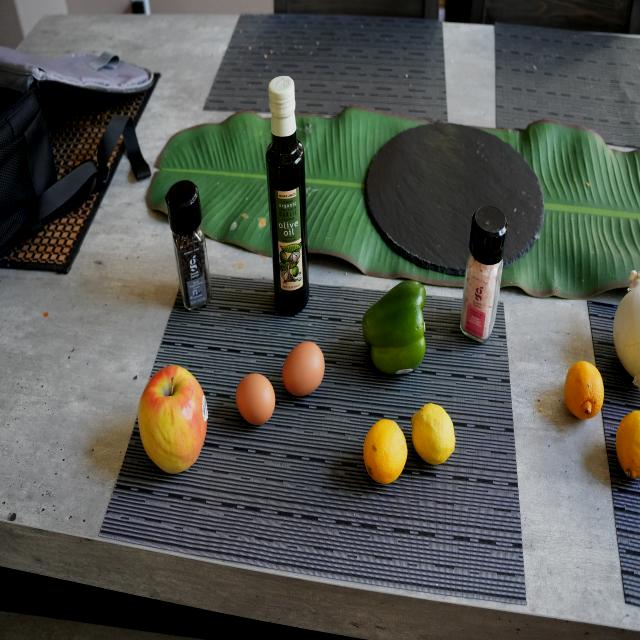bell_pepper: (356, 271, 436, 388), (159, 177, 213, 309)
egg: (278, 337, 332, 403), (233, 369, 277, 429)
onion: (611, 271, 640, 396)
